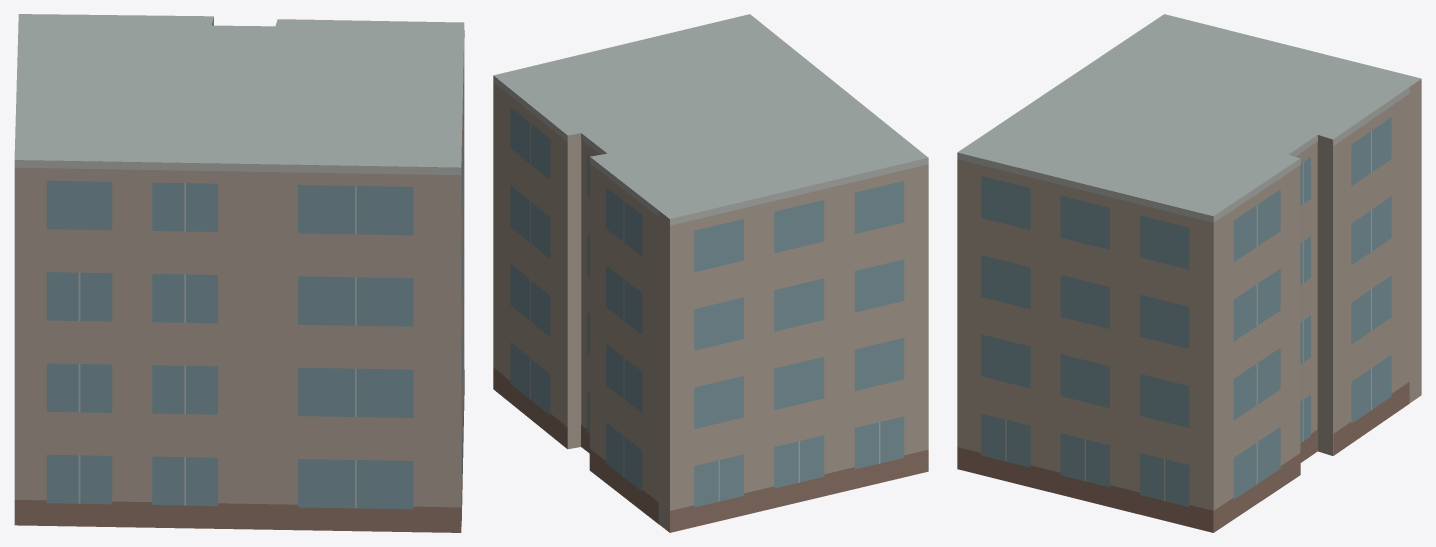
File: survey-upis-32880180.glb
The picture shows the model from 3 angles, left to right: view 1: azimuth 30°, elevation 25°; view 2: azimuth 150°, elevation 25°; view 3: azimuth 270°, elevation 25°; orthographic projection. The views are drawn at different scales.
Parts seen in each view (by area): view 1: survey-upis-32880180.tmp; view 2: survey-upis-32880180.tmp; view 3: survey-upis-32880180.tmp.
Boxes of the visible parts, box(x1,y1,x2,y2) form: survey-upis-32880180.tmp: box(14, 14, 464, 532); survey-upis-32880180.tmp: box(493, 14, 928, 532); survey-upis-32880180.tmp: box(957, 14, 1421, 532).
Size of the model in its own units: 15.9 by 11.6 by 15.43.
